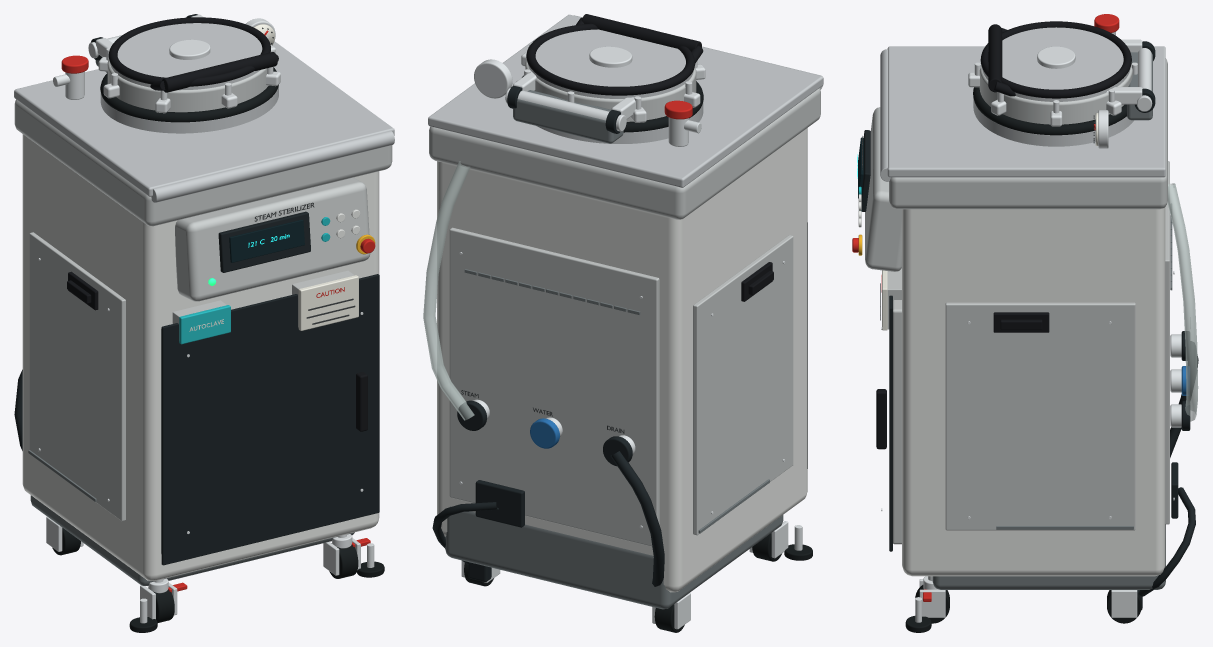
Rendered from autoclave.glb.
3 views of the same model, side by side, from view 1: azimuth 30°, elevation 25°; view 2: azimuth 150°, elevation 25°; view 3: azimuth 270°, elevation 25° (orthographic). The views are drawn at different scales.
Parts seen in each view (by area): view 1: Runtime_Black_engineering_polymer, Runtime_Powder_coated_light_gray, Runtime_Powder_coated_warm_white, Runtime_Brushed_stainless_steel, Runtime_Polished_stainless_hardware, Runtime_Matte_black_coated_handle, Runtime_Black_EPDM_rubber, Runtime_Safety_label_stock, Runtime_Powder_coated_shadow_gray, Runtime_Controller_glass, Runtime_Sterilizer_aqua_accent, Runtime_Safety_red (+1 smaller); view 2: Runtime_Powder_coated_light_gray, Runtime_Powder_coated_warm_white, Runtime_Brushed_stainless_steel, Runtime_Powder_coated_shadow_gray, Runtime_Polished_stainless_hardware, Runtime_Black_engineering_polymer, Runtime_Matte_black_coated_handle, Runtime_Translucent_reinforced_hose, Runtime_Black_EPDM_rubber, Runtime_Deep_laboratory_blue; view 3: Runtime_Powder_coated_light_gray, Runtime_Powder_coated_warm_white, Runtime_Brushed_stainless_steel, Runtime_Polished_stainless_hardware, Runtime_Matte_black_coated_handle, Runtime_Black_engineering_polymer, Runtime_Powder_coated_shadow_gray, Runtime_Translucent_reinforced_hose, Runtime_Black_EPDM_rubber, Runtime_Safety_red, Runtime_Safety_label_stock.
Boxes of the visible parts, x1,y1,x2,y2 form: Runtime_Black_engineering_polymer: (14, 14, 379, 565); Runtime_Powder_coated_light_gray: (14, 59, 392, 554); Runtime_Powder_coated_warm_white: (22, 134, 379, 581); Runtime_Brushed_stainless_steel: (14, 23, 394, 202); Runtime_Polished_stainless_hardware: (38, 14, 374, 623); Runtime_Matte_black_coated_handle: (67, 17, 367, 431); Runtime_Black_EPDM_rubber: (52, 67, 384, 632); Runtime_Safety_label_stock: (189, 24, 358, 331); Runtime_Powder_coated_shadow_gray: (28, 60, 354, 585); Runtime_Controller_glass: (229, 219, 304, 262); Runtime_Sterilizer_aqua_accent: (179, 217, 330, 344); Runtime_Safety_red: (61, 30, 375, 592); Runtime_Powder_coated_light_gray: (429, 59, 820, 546); Runtime_Powder_coated_warm_white: (437, 128, 807, 592); Runtime_Brushed_stainless_steel: (428, 14, 823, 187); Runtime_Powder_coated_shadow_gray: (445, 90, 783, 609); Runtime_Polished_stainless_hardware: (459, 43, 802, 629); Runtime_Black_engineering_polymer: (432, 86, 807, 586); Runtime_Matte_black_coated_handle: (526, 14, 773, 301); Runtime_Translucent_reinforced_hose: (423, 161, 474, 420); Runtime_Black_EPDM_rubber: (464, 75, 812, 632); Runtime_Deep_laboratory_blue: (530, 418, 559, 448); Runtime_Powder_coated_light_gray: (865, 58, 1169, 544); Runtime_Powder_coated_warm_white: (858, 194, 1165, 576); Runtime_Brushed_stainless_steel: (880, 27, 1165, 181); Runtime_Polished_stainless_hardware: (881, 31, 1181, 622); Runtime_Matte_black_coated_handle: (876, 21, 1131, 449); Runtime_Black_engineering_polymer: (861, 41, 1198, 610); Runtime_Powder_coated_shadow_gray: (932, 52, 1172, 589); Runtime_Translucent_reinforced_hose: (1167, 183, 1198, 421); Runtime_Black_EPDM_rubber: (905, 87, 1141, 632); Runtime_Safety_red: (852, 14, 1119, 601); Runtime_Safety_label_stock: (882, 113, 1098, 330).
Size of the model in its own units: 0.8 by 1.5 by 0.9.
